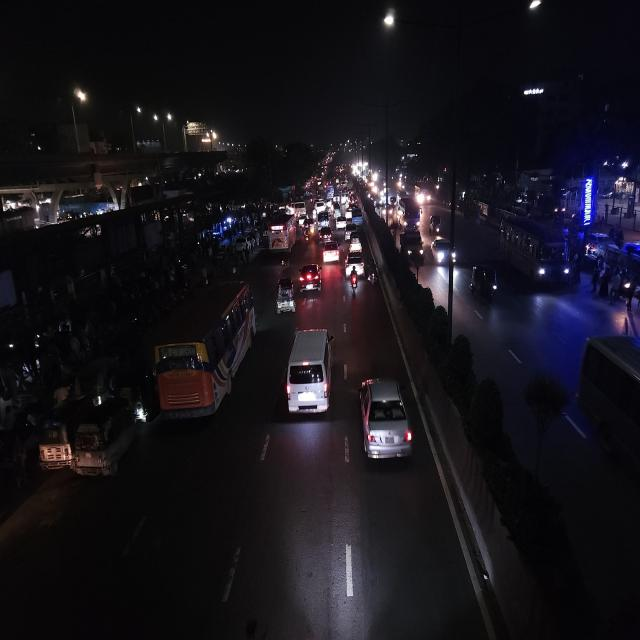bus: (152, 275, 256, 427), (497, 212, 577, 290), (269, 211, 299, 252), (397, 197, 422, 232)
car: (354, 371, 416, 479), (281, 324, 337, 423), (298, 260, 323, 294), (432, 235, 458, 267), (321, 238, 341, 266), (347, 230, 363, 257), (317, 211, 331, 230), (318, 226, 332, 243), (334, 212, 346, 226), (344, 204, 352, 220)
cng: (72, 394, 134, 482), (33, 415, 72, 477), (468, 262, 499, 306), (274, 274, 296, 318), (428, 213, 442, 237)
motorcycle: (348, 265, 360, 299), (365, 260, 378, 289), (302, 221, 312, 245)
pedestrian: (608, 268, 622, 304), (589, 260, 603, 296)
pickup_van: (352, 206, 364, 228)
truck: (398, 227, 425, 268)
